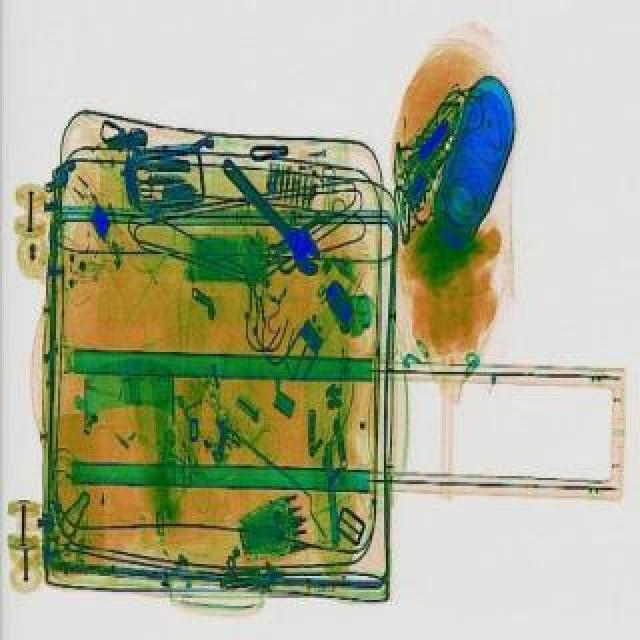scissors: (210, 148, 334, 276)
